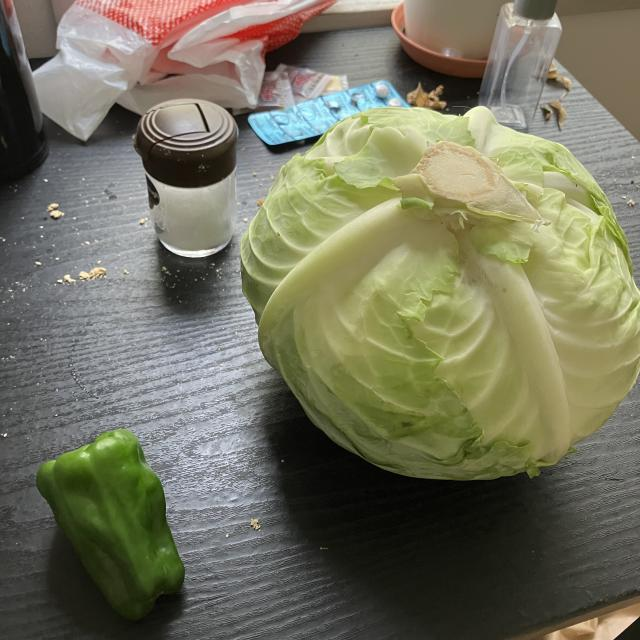cabbage: (239, 103, 640, 486)
